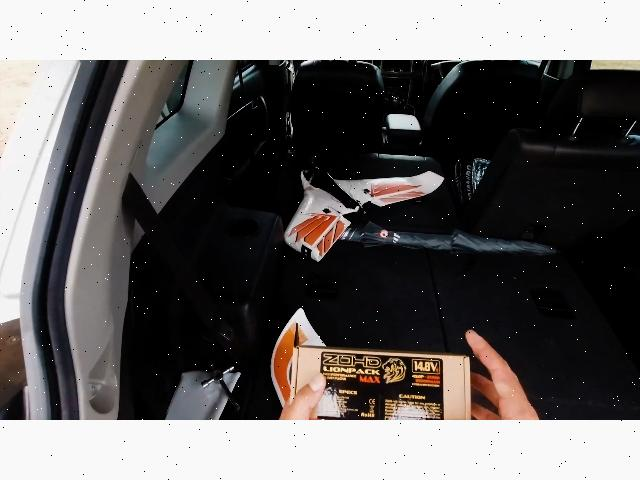Anti-Drone: (260, 140, 460, 266)
